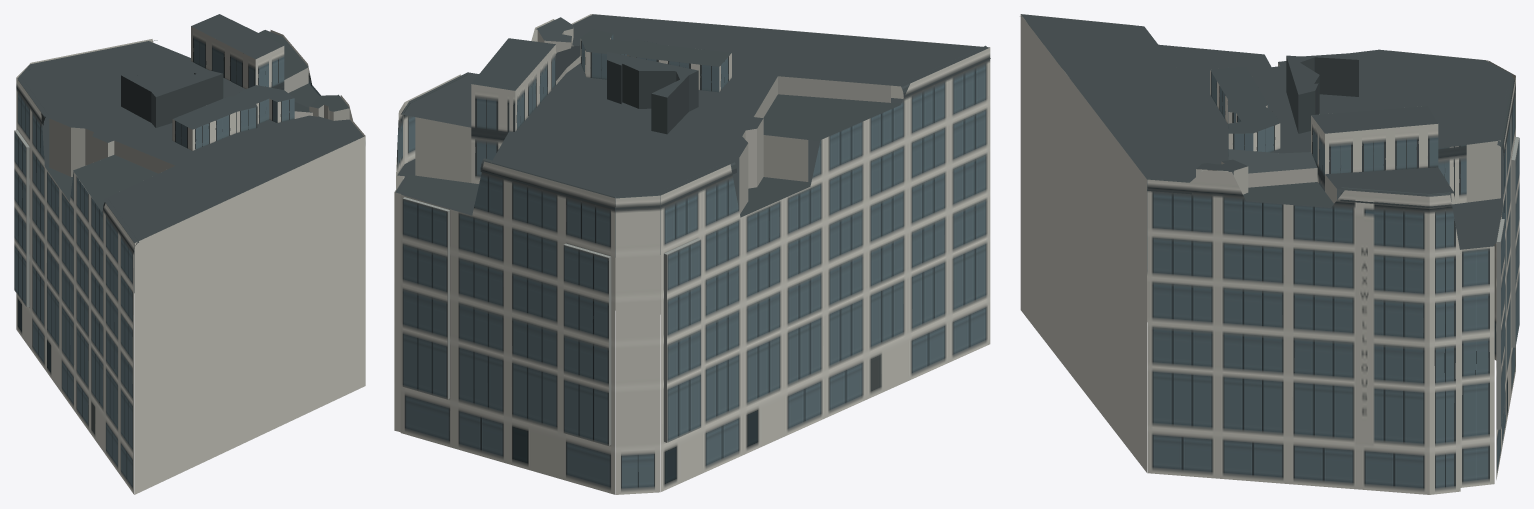
3 views of the same model, side by side, from view 1: azimuth 30°, elevation 25°; view 2: azimuth 150°, elevation 25°; view 3: azimuth 270°, elevation 25° (orthographic). The views are drawn at different scales.
Parts seen in each view (by area): view 1: 0363100012165119; view 2: 0363100012165119; view 3: 0363100012165119.
Part boxes in pixels (x1=…): 0363100012165119: x1=14, y1=14, x2=365, y2=494; 0363100012165119: x1=394, y1=14, x2=990, y2=494; 0363100012165119: x1=1020, y1=14, x2=1519, y2=494.
Bounding box in the file's own units: 30.1 × 25.49 × 34.32.
3 materials, 1 textured.
